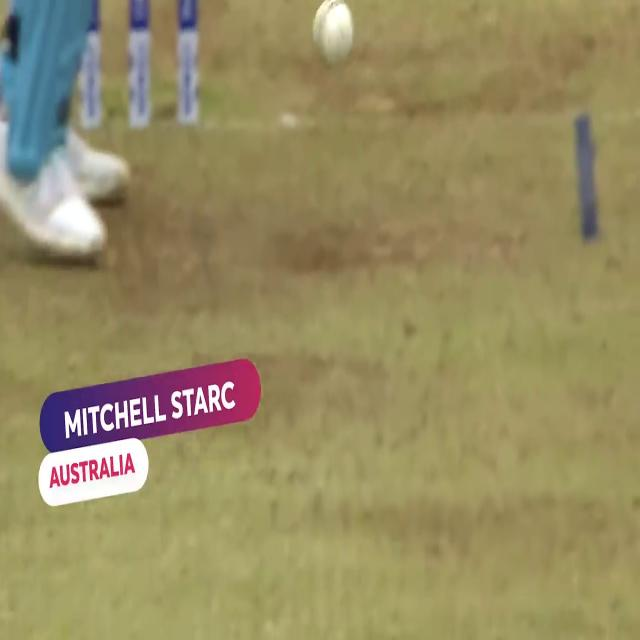ball: (309, 2, 359, 62)
